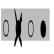correct: (40, 19, 46, 40)
not correct: (13, 8, 23, 50)
